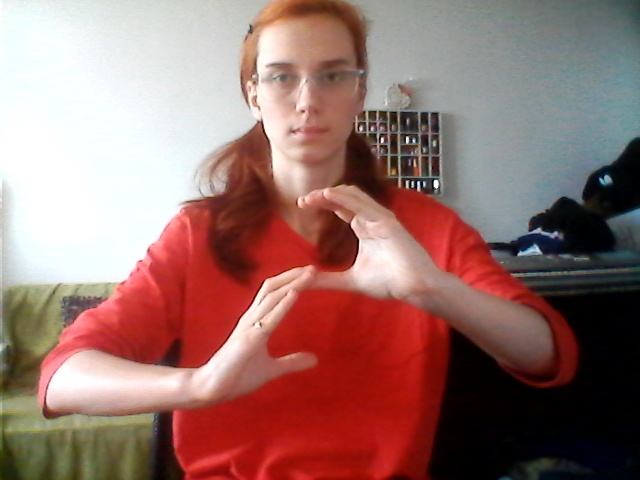s: (219, 180, 428, 408)
